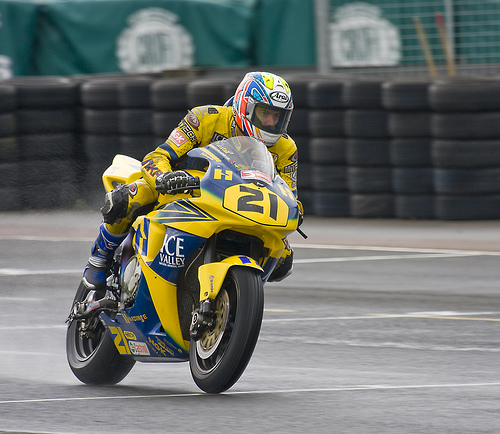helmet: (231, 74, 301, 143)
